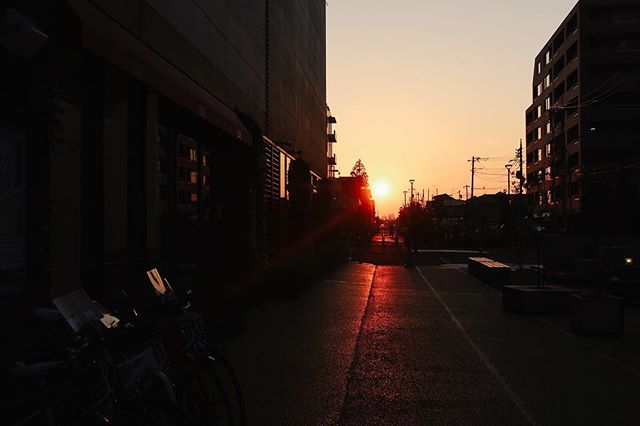building: (1, 1, 333, 271), (524, 1, 640, 232)
sky: (324, 1, 529, 183)
sun: (368, 167, 397, 203)
